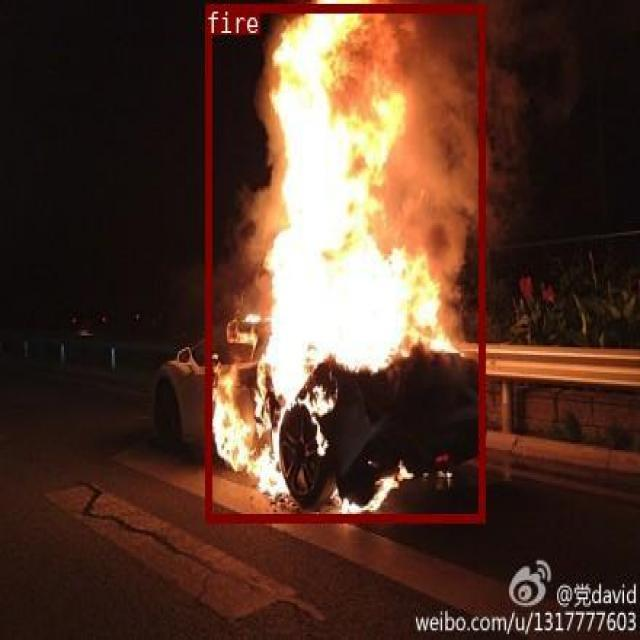fire: (204, 2, 484, 520)
